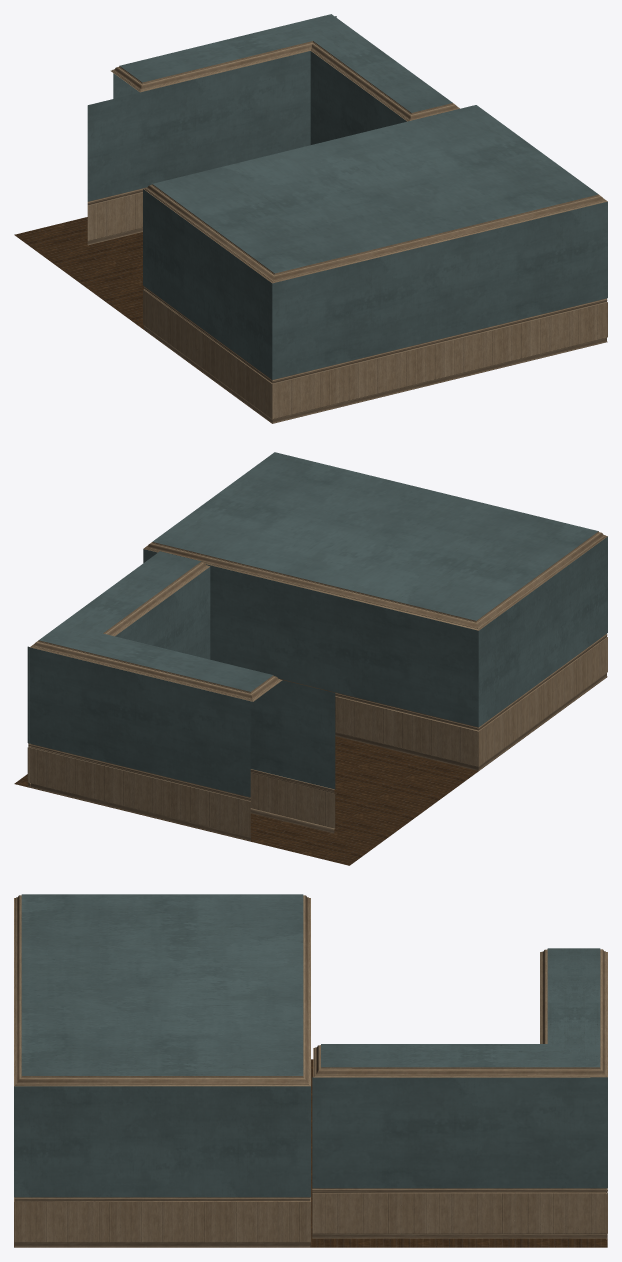
Rendered from B1M1_CinemaRoom_GEO.fbx.
3 renders of one model, top to bottom at view 1: azimuth 30°, elevation 25°; view 2: azimuth 150°, elevation 25°; view 3: azimuth 270°, elevation 25°, orthographic. The views are drawn at different scales.
Visible parts, largest first — view 1: B1M1_CinemaRoom_GEO, Roof, HallWalls, HallRoof, HallFloor; view 2: B1M1_CinemaRoom_GEO, HallWalls, Roof, HallFloor, HallRoof; view 3: Roof, B1M1_CinemaRoom_GEO, HallWalls, HallRoof, HallFloor.
Boxes of the visible parts, x1=… form: B1M1_CinemaRoom_GEO: x1=143, y1=189, x2=607, y2=423; Roof: x1=143, y1=105, x2=607, y2=283; HallWalls: x1=87, y1=16, x2=406, y2=245; HallRoof: x1=110, y1=14, x2=459, y2=121; HallFloor: x1=14, y1=217, x2=143, y2=329; B1M1_CinemaRoom_GEO: x1=143, y1=536, x2=607, y2=770; HallWalls: x1=27, y1=567, x2=335, y2=840; Roof: x1=143, y1=452, x2=607, y2=630; HallFloor: x1=14, y1=736, x2=478, y2=865; HallRoof: x1=30, y1=551, x2=282, y2=701; Roof: x1=14, y1=894, x2=310, y2=1086; B1M1_CinemaRoom_GEO: x1=14, y1=1086, x2=310, y2=1247; HallWalls: x1=312, y1=1077, x2=607, y2=1239; HallRoof: x1=313, y1=948, x2=607, y2=1077; HallFloor: x1=311, y1=1059, x2=607, y2=1247.
Bounding box in the file's own units: 750 × 313 × 1000.
